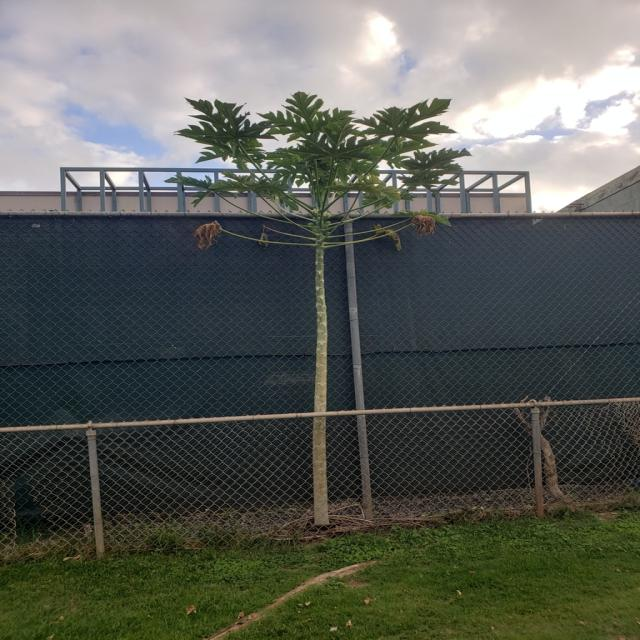Papaya-Tree: (173, 80, 473, 535)
